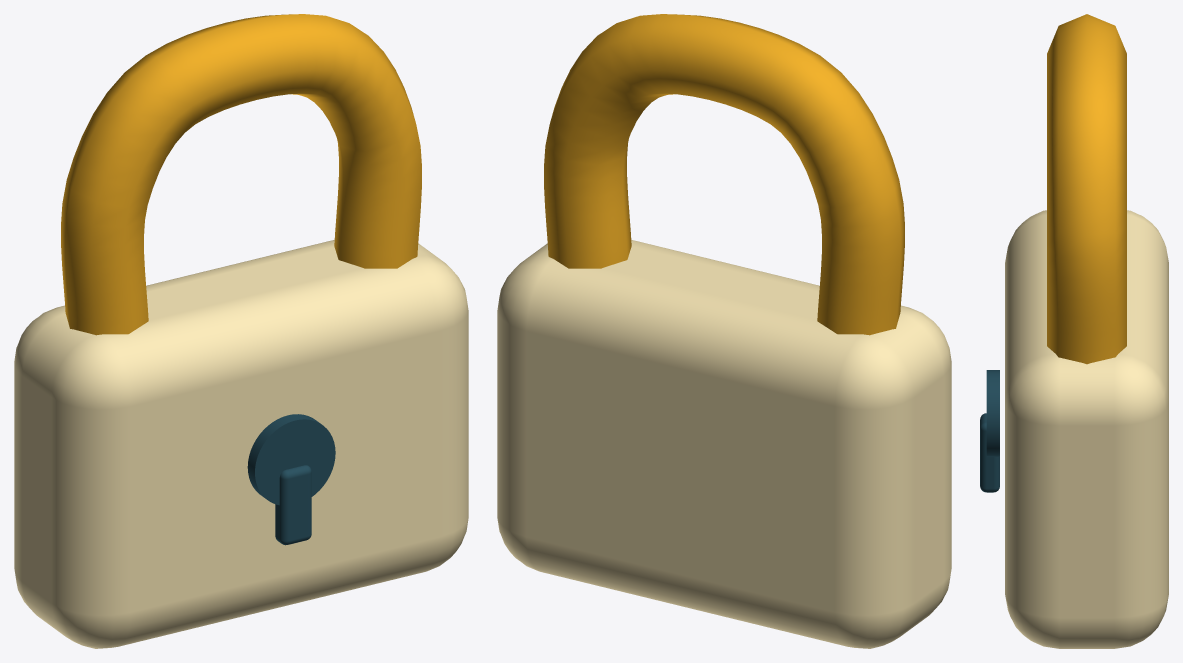
File: lock.glb
3 views of the same model, side by side, from view 1: azimuth 30°, elevation 25°; view 2: azimuth 150°, elevation 25°; view 3: azimuth 270°, elevation 25° (orthographic). The views are drawn at different scales.
Parts seen in each view (by area): view 1: lock, lock_shackle_201; view 2: lock, lock_shackle_201; view 3: lock, lock_shackle_201.
Part boxes in pixels (x1,y1,x2,y2): lock: (14,240,468,648); lock_shackle_201: (61,14,421,335); lock: (497,240,951,648); lock_shackle_201: (544,14,904,335); lock: (980,210,1168,648); lock_shackle_201: (1047,14,1126,364).
Bounding box in the file's own units: 1.32 × 1.76 × 0.565.
